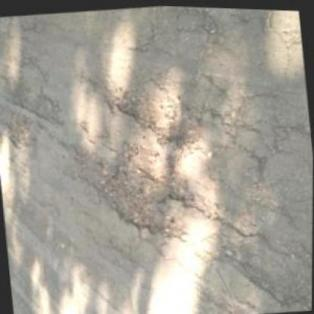Hueco: (97, 138, 198, 248), (112, 81, 202, 152), (0, 111, 38, 150)
